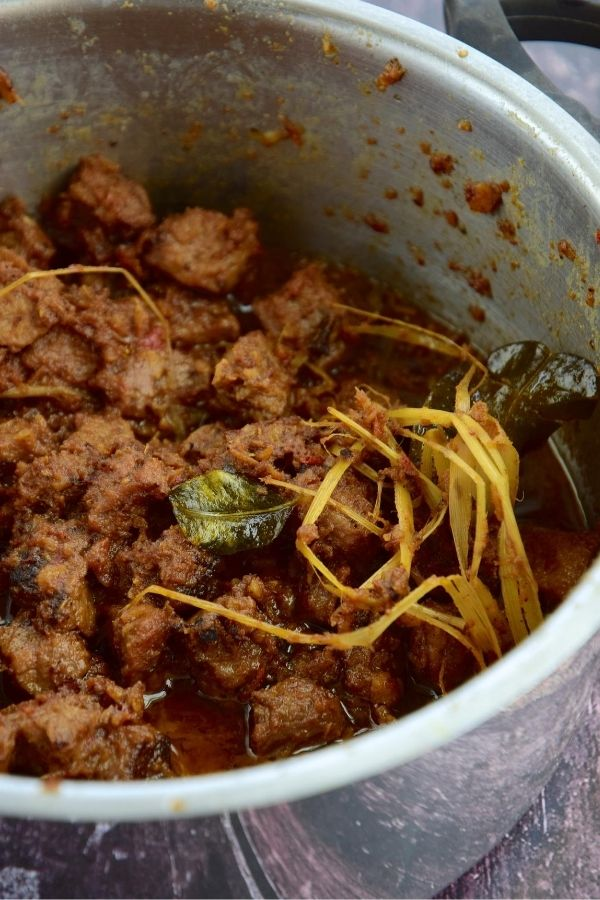rendang: (11, 59, 600, 834)
